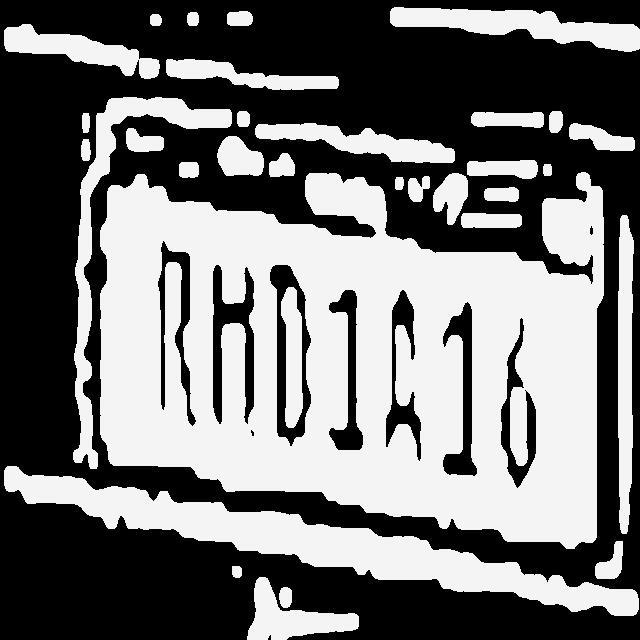1: (436, 296, 480, 485), (324, 282, 367, 457)
6: (496, 308, 542, 490)
a: (383, 286, 424, 464)
d: (270, 263, 314, 447)
h: (207, 258, 260, 434)
r: (150, 241, 198, 427)
